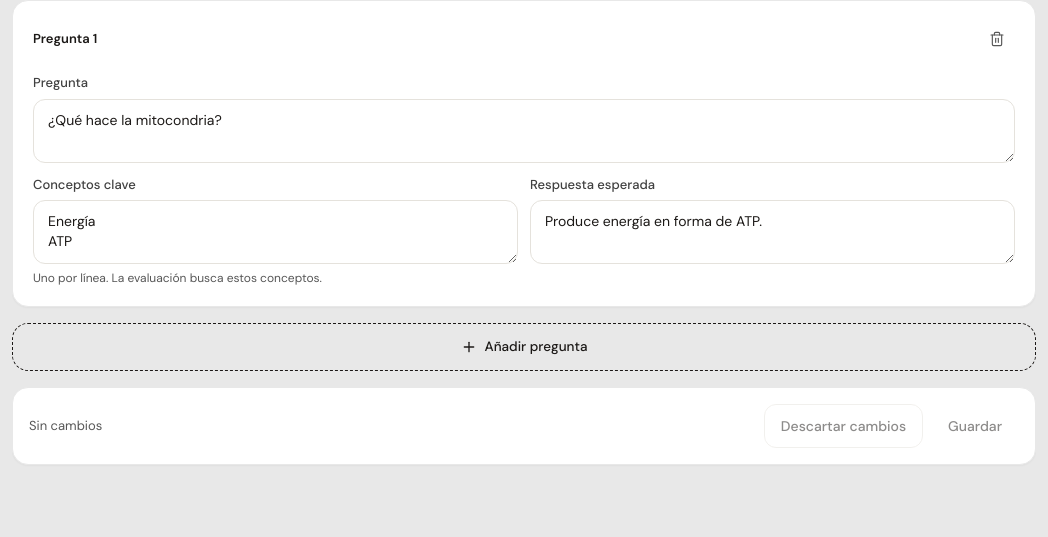
Test: RecallQuestionsEditor › explains a SOMETHING_ELSE refusal
Replace the text in the text box labelled "Pregunta" with "¿Nueva?" at (524,130), box [33,98,1015,162]
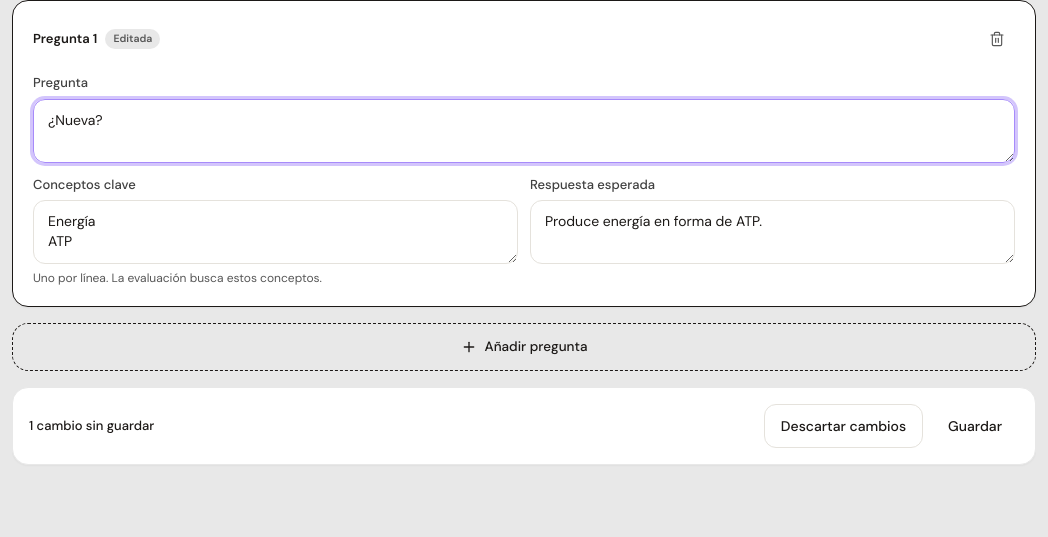
Click the button "Guardar" at (975,426), box [931,404,1019,448]
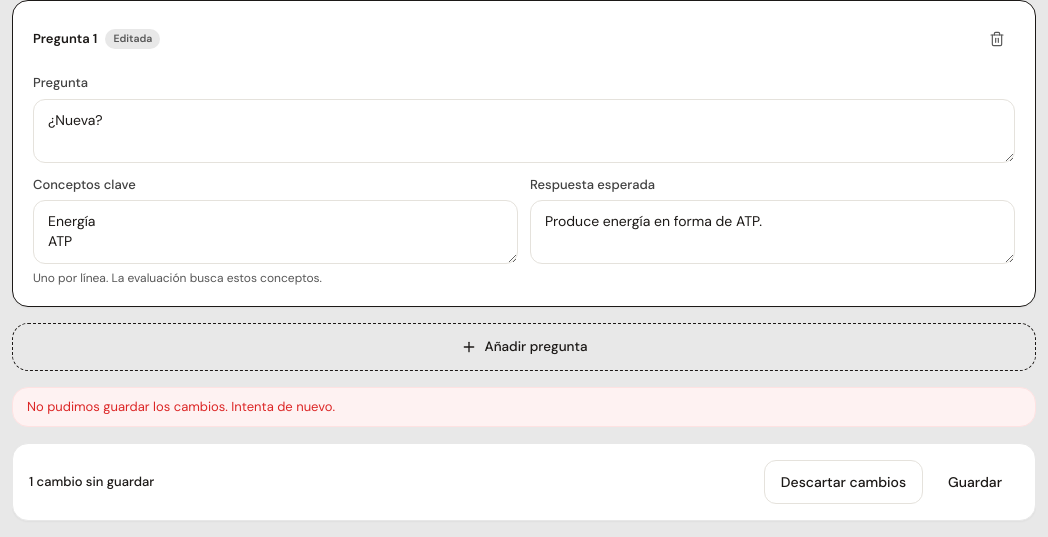
Now the message shows "No pudimos guardar los cambios", box [27,398,335,415]
